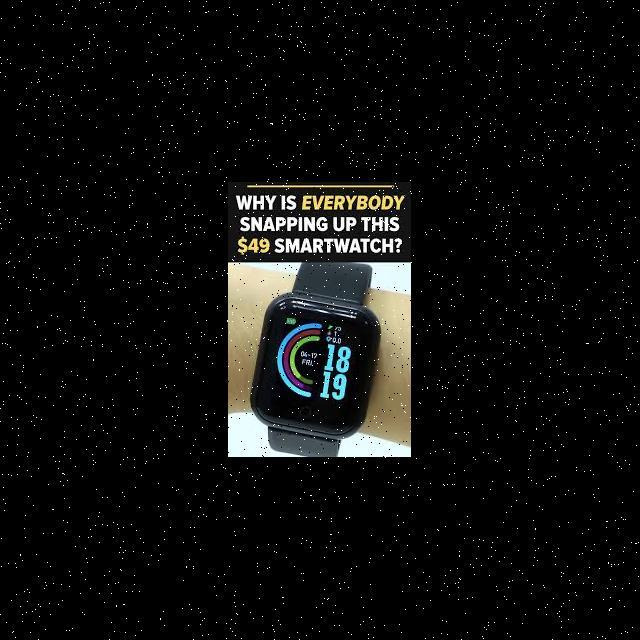watch: (240, 262, 388, 455)
